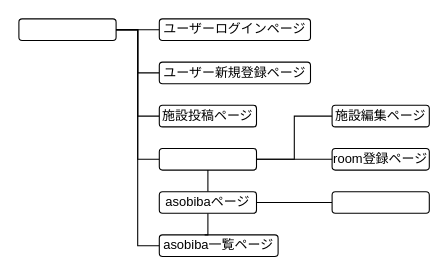
Image size: 448x275. Some labels were removed from this diagram. Each missing label, with the centre of its shape:
"room編集ページ" belongs at point 380,202.
"施設一覧ページ" belongs at point 67,29.
"施設詳細ページ" belongs at point 207,158.
